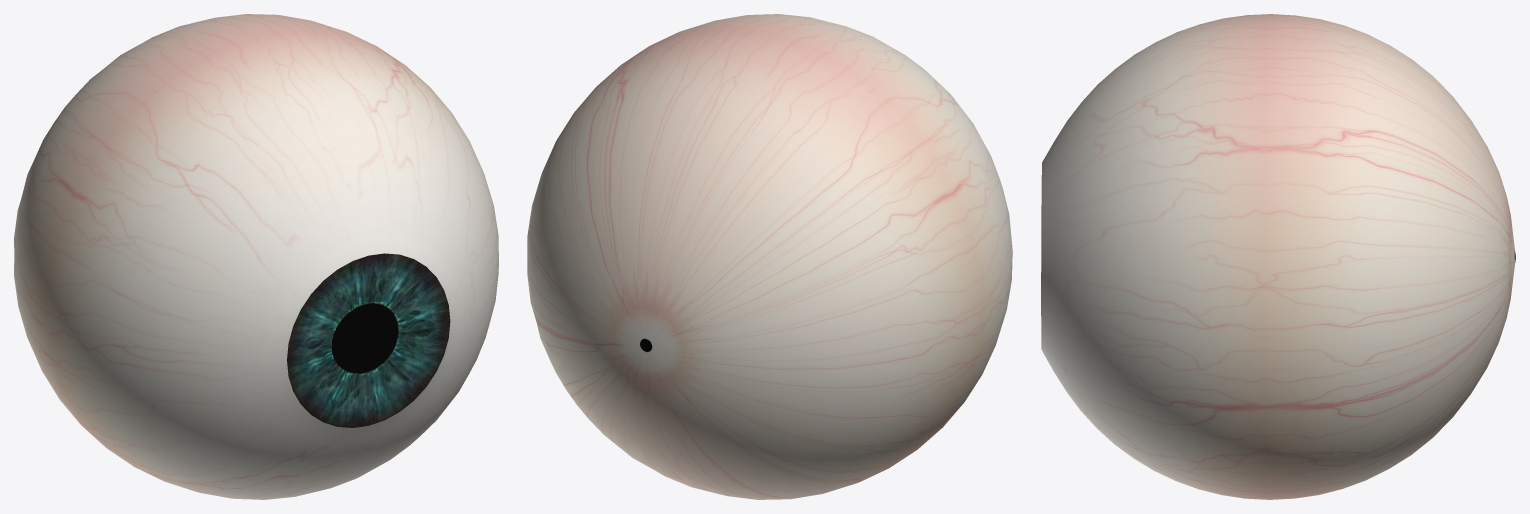
Rendered from eye.glb.
3 renders of one model, left to right at view 1: azimuth 30°, elevation 25°; view 2: azimuth 150°, elevation 25°; view 3: azimuth 270°, elevation 25°, orthographic.
Visible parts, largest first — view 1: eyeball_1_eye_1, eyeball_1.002_eye_1.002, Plane; view 2: eyeball_1_eye_1; view 3: eyeball_1_eye_1.
Part boxes in pixels (x1,y1,x2,y2): eyeball_1_eye_1: [14, 14, 498, 499]; eyeball_1.002_eye_1.002: [287, 253, 450, 427]; Plane: [331, 303, 398, 373]; eyeball_1_eye_1: [527, 14, 1012, 499]; eyeball_1_eye_1: [1041, 14, 1515, 499].
Size of the model in its own units: 3.86 by 3.86 by 3.77.
Materials: 3 (2 with a texture image).
